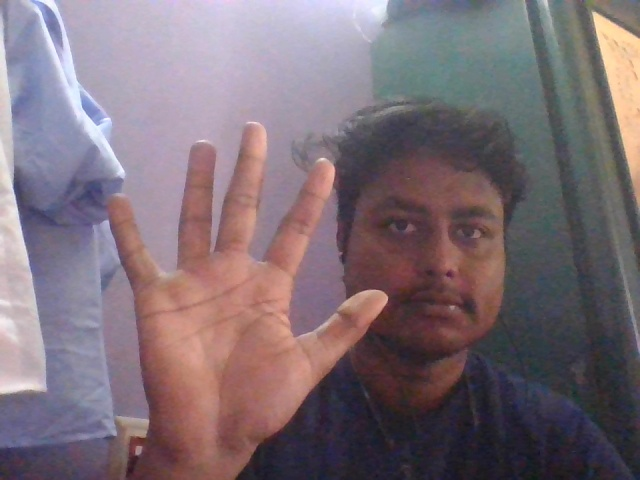hello: (90, 117, 396, 480)
